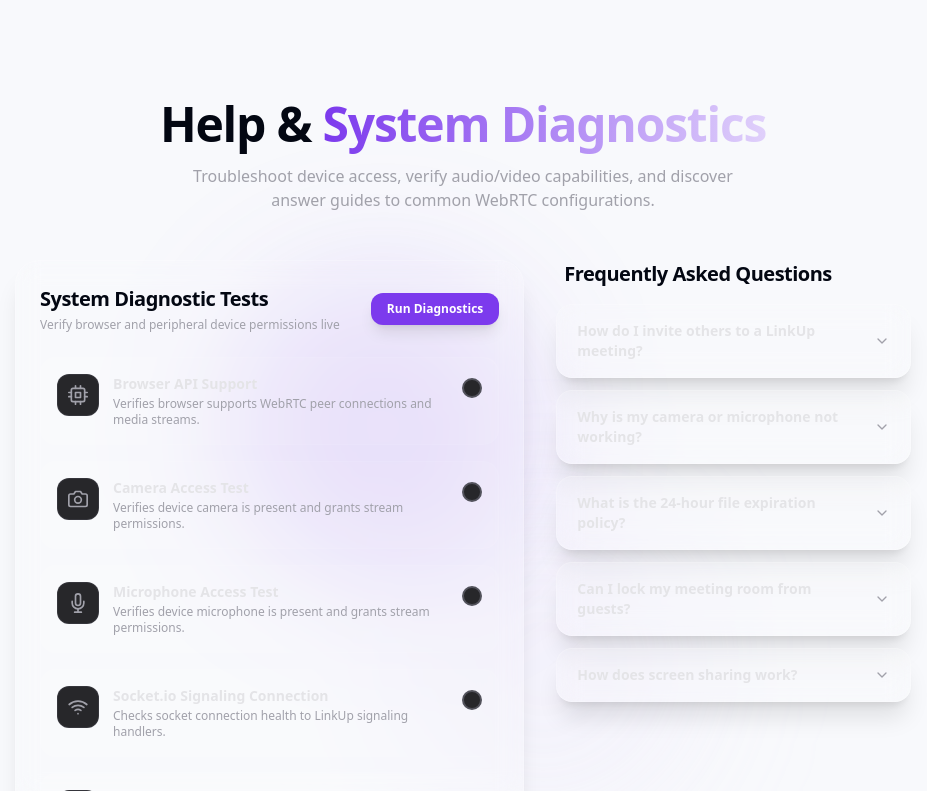
Scenario: LinkUp Phase 3 Production Features & SEO › System Diagnostics FAQ Dashboard › completes full systems diagnostics sequence successfully
Run check
What coordinates should you click on to do the following:
click the button "Run Diagnostics"
I would click on:
 (435, 309)
Its box is [371,293,499,325].
(page scrolled)
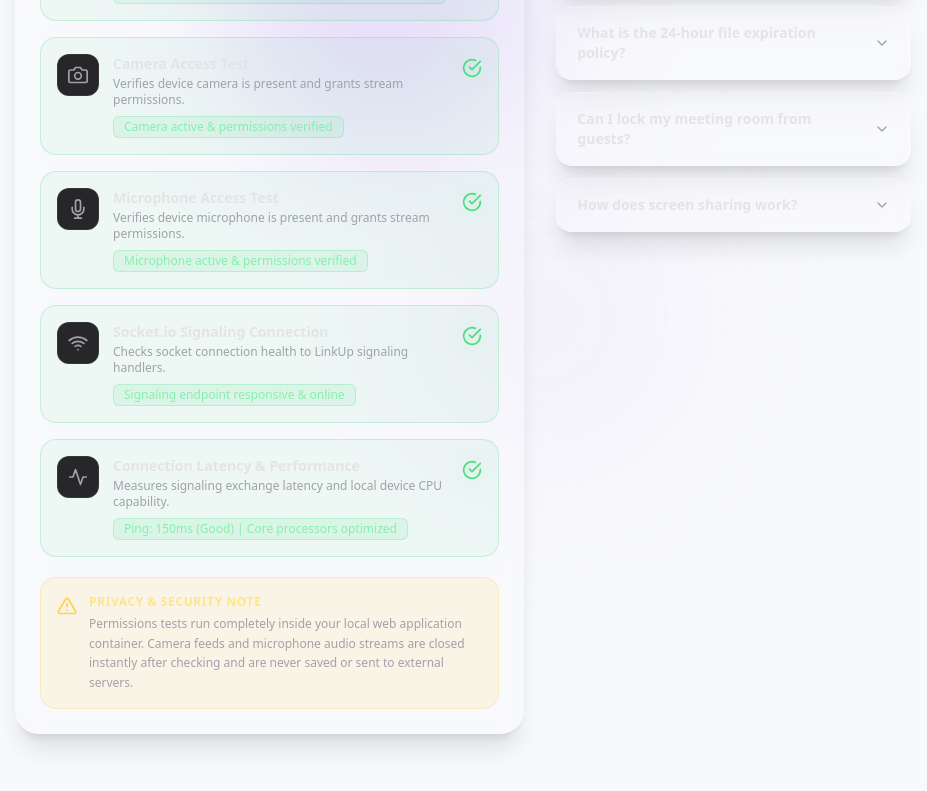
Check: the text "Camera active & permissions verified" is shown, box [113,116,344,138]
Check: the text "Microphone active & permissions verified" is shown, box [113,250,368,272]
Check: the text "Signaling endpoint responsive & online" is shown, box [113,384,356,406]
